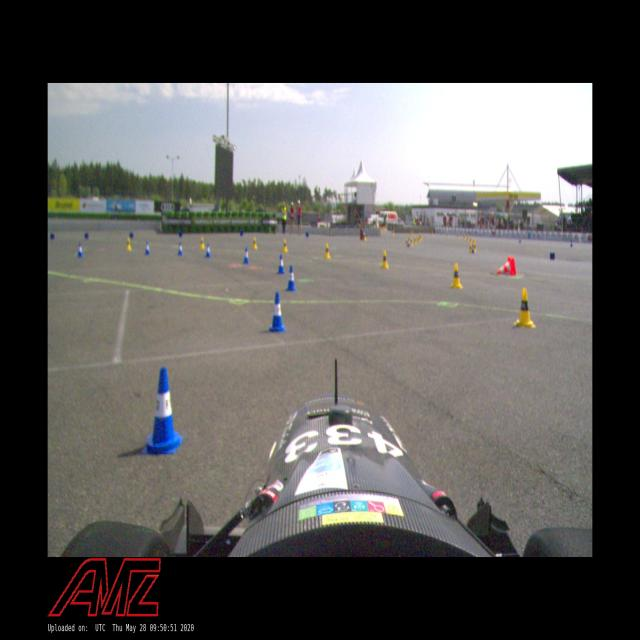blue_cone: (142, 367, 184, 454), (268, 291, 287, 334), (286, 265, 297, 291), (276, 254, 285, 274), (242, 247, 250, 264), (76, 242, 84, 258), (205, 242, 211, 258), (144, 240, 150, 254), (178, 241, 183, 256), (407, 238, 410, 247)
orange_cone: (496, 256, 516, 276)
yellow_cone: (514, 287, 536, 329), (450, 263, 462, 289), (381, 250, 388, 269), (324, 244, 331, 258), (125, 237, 132, 250), (282, 238, 288, 252), (199, 236, 205, 249), (252, 236, 258, 249), (405, 238, 408, 247)
